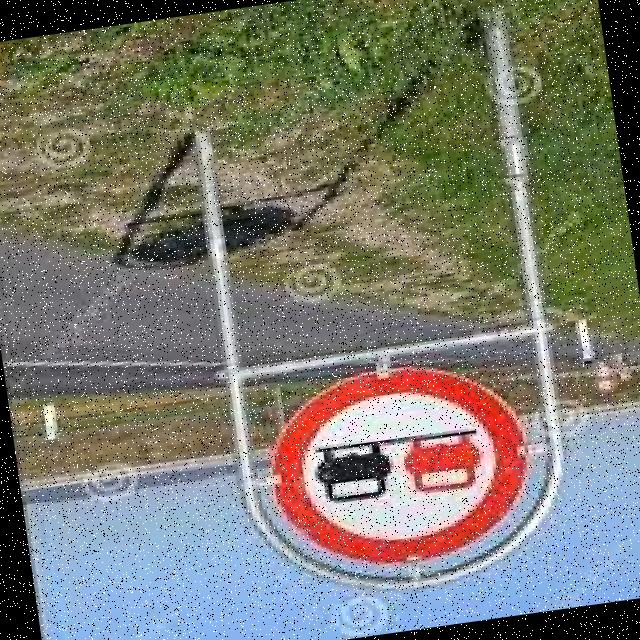no_passing: (236, 330, 550, 605)
